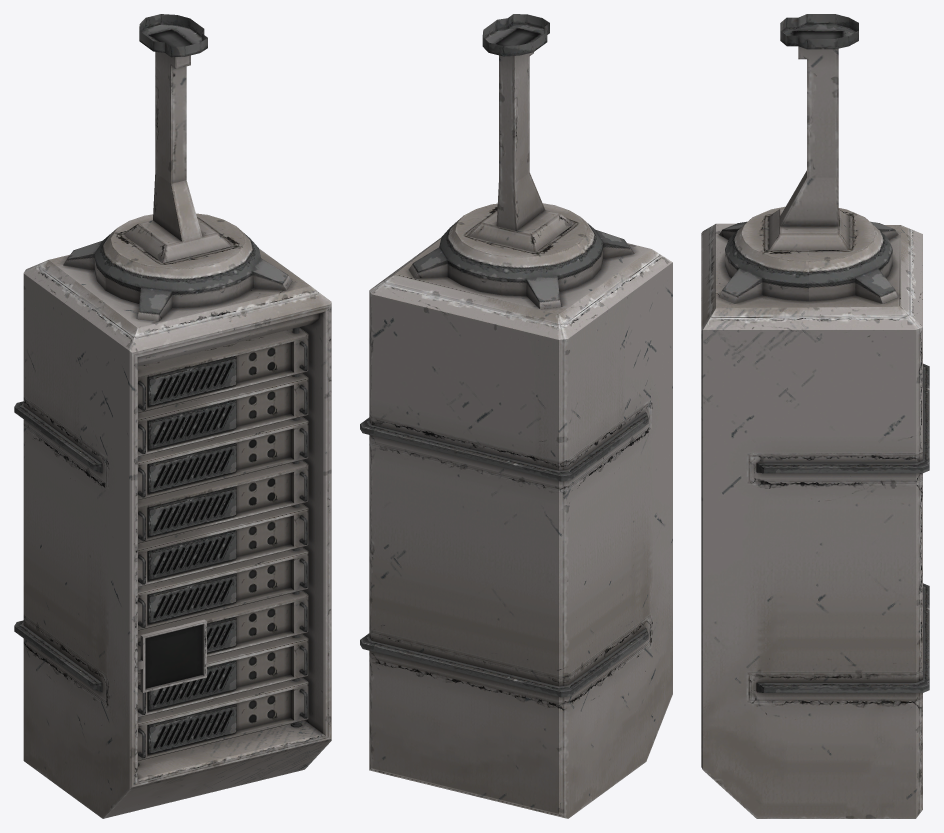
The model's file is server_theta_hanging03.dae.
3 views of the same model, side by side, from view 1: azimuth 30°, elevation 25°; view 2: azimuth 150°, elevation 25°; view 3: azimuth 270°, elevation 25° (orthographic).
Parts seen in each view (by area): view 1: server_hanging; view 2: server_hanging; view 3: server_hanging.
Boxes of the visible parts, <box> form: server_hanging: <box>14,14,331,818</box>; server_hanging: <box>360,14,672,818</box>; server_hanging: <box>701,14,929,818</box>.
Bounding box in the file's own units: 1.7 × 5.64 × 1.57.
